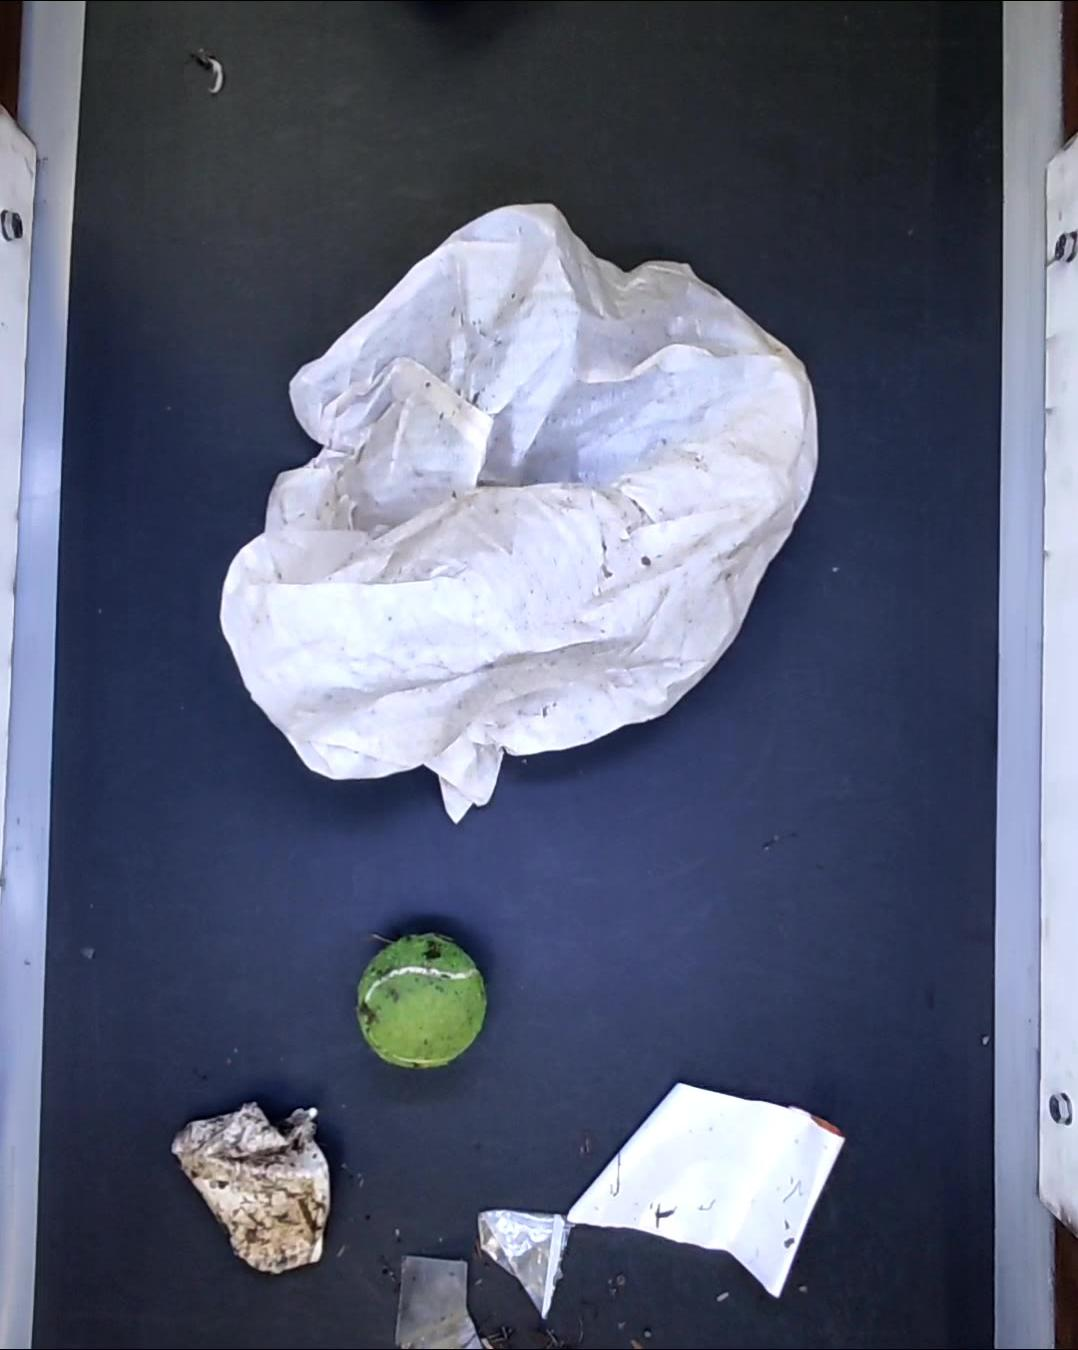Plastic folies of stukken daarvan 2.5- 50 cm: (477, 1208, 569, 1322)
